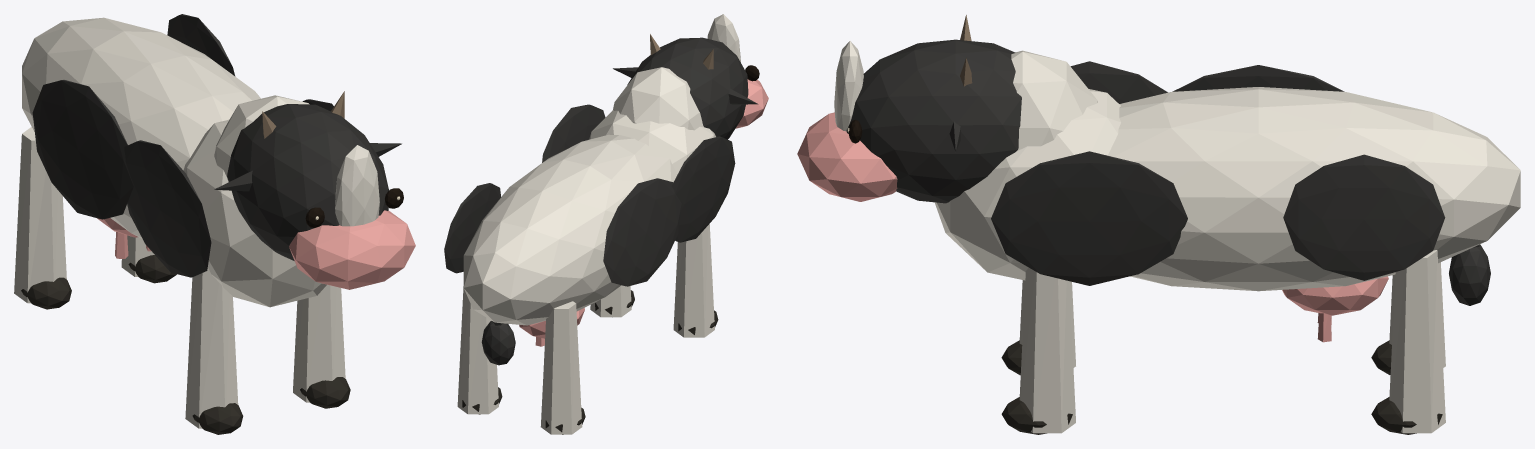
The model's file is low-poly-cow.glb.
3 views of the same model, side by side, from view 1: azimuth 30°, elevation 25°; view 2: azimuth 150°, elevation 25°; view 3: azimuth 270°, elevation 25° (orthographic). The views are drawn at different scales.
Visible parts, largest first — view 1: cow-body-mesh, cow-head-mesh, cow-patch-left-barrel-mesh, cow-chest-mesh, cow-patch-left-shoulder-mesh, cow-muzzle-mesh, cow-leg-front-left-shaft-mesh, cow-leg-rear-left-shaft-mesh, cow-leg-front-right-shaft-mesh, cow-face-blaze-mesh, cow-neck-mesh, cow-patch-right-rump-mesh (+6 smaller); view 2: cow-body-mesh, cow-patch-left-barrel-mesh, cow-head-mesh, cow-leg-rear-left-shaft-mesh, cow-patch-left-shoulder-mesh, cow-neck-mesh, cow-leg-front-left-shaft-mesh, cow-leg-rear-right-shaft-mesh, cow-chest-mesh, cow-patch-right-rump-mesh, cow-patch-right-shoulder-mesh, cow-tail-tuft-mesh (+4 smaller); view 3: cow-body-mesh, cow-head-mesh, cow-patch-right-shoulder-mesh, cow-patch-right-rump-mesh, cow-chest-mesh, cow-leg-rear-right-shaft-mesh, cow-leg-front-right-shaft-mesh, cow-neck-mesh, cow-muzzle-mesh, cow-patch-left-barrel-mesh, cow-udder-mesh, cow-patch-left-shoulder-mesh (+4 smaller).
Boxes of the visible parts, x1=… form: cow-body-mesh: x1=22, y1=17, x2=260, y2=238; cow-head-mesh: x1=227, y1=104, x2=388, y2=260; cow-patch-left-barrel-mesh: x1=32, y1=80, x2=133, y2=219; cow-chest-mesh: x1=183, y1=119, x2=326, y2=307; cow-patch-left-shoulder-mesh: x1=124, y1=140, x2=211, y2=277; cow-muzzle-mesh: x1=289, y1=210, x2=415, y2=289; cow-leg-front-left-shaft-mesh: x1=185, y1=267, x2=238, y2=428; cow-leg-rear-left-shaft-mesh: x1=14, y1=127, x2=66, y2=303; cow-leg-front-right-shaft-mesh: x1=293, y1=284, x2=345, y2=402; cow-face-blaze-mesh: x1=335, y1=145, x2=379, y2=226; cow-neck-mesh: x1=214, y1=95, x2=309, y2=177; cow-patch-right-rump-mesh: x1=167, y1=14, x2=235, y2=76; cow-body-mesh: x1=463, y1=134, x2=677, y2=325; cow-patch-left-barrel-mesh: x1=603, y1=178, x2=681, y2=286; cow-head-mesh: x1=627, y1=37, x2=748, y2=139; cow-leg-rear-left-shaft-mesh: x1=540, y1=301, x2=582, y2=434; cow-patch-left-shoulder-mesh: x1=671, y1=136, x2=735, y2=242; cow-neck-mesh: x1=613, y1=67, x2=703, y2=130; cow-leg-front-left-shaft-mesh: x1=673, y1=224, x2=714, y2=337; cow-leg-rear-right-shaft-mesh: x1=457, y1=286, x2=498, y2=414; cow-chest-mesh: x1=589, y1=110, x2=715, y2=173; cow-patch-right-rump-mesh: x1=444, y1=183, x2=500, y2=273; cow-patch-right-shoulder-mesh: x1=542, y1=104, x2=605, y2=162; cow-tail-tuft-mesh: x1=481, y1=321, x2=515, y2=365; cow-body-mesh: x1=1108, y1=87, x2=1520, y2=291; cow-head-mesh: x1=846, y1=39, x2=1021, y2=203; cow-patch-right-shoulder-mesh: x1=991, y1=151, x2=1187, y2=285; cow-patch-right-rump-mesh: x1=1283, y1=154, x2=1445, y2=280; cow-chest-mesh: x1=934, y1=89, x2=1120, y2=280; cow-leg-rear-right-shaft-mesh: x1=1389, y1=250, x2=1445, y2=433; cow-leg-front-right-shaft-mesh: x1=1019, y1=268, x2=1075, y2=433; cow-neck-mesh: x1=1011, y1=50, x2=1097, y2=151; cow-muzzle-mesh: x1=797, y1=112, x2=897, y2=201; cow-patch-left-barrel-mesh: x1=1172, y1=65, x2=1344, y2=91; cow-udder-mesh: x1=1282, y1=276, x2=1388, y2=315; cow-patch-left-shoulder-mesh: x1=1070, y1=61, x2=1167, y2=103.
Size of the model in its own units: 0.5734 by 0.986 by 1.76.
